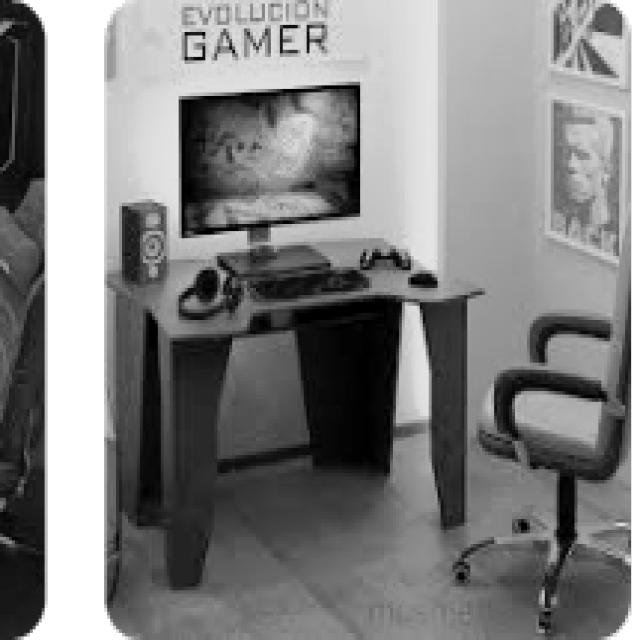book: (450, 210, 631, 633)
table: (104, 234, 485, 586)
